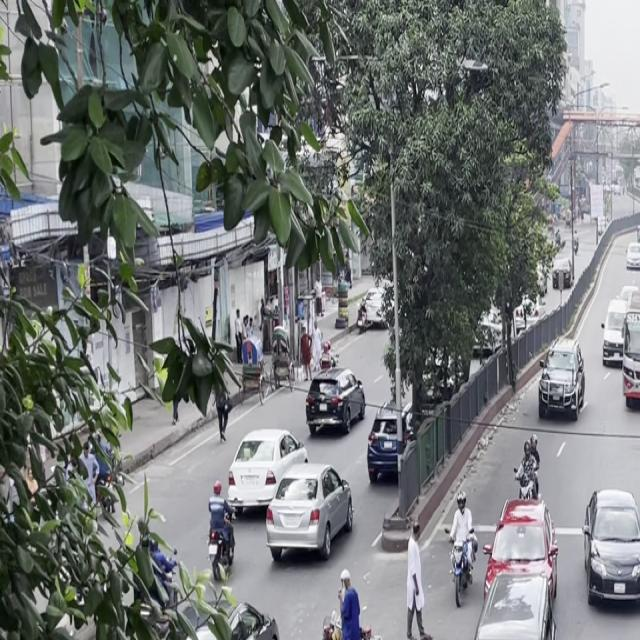bicycle: (306, 570, 396, 640)
bus: (619, 275, 640, 419)
car: (262, 456, 357, 570), (449, 554, 568, 640), (579, 479, 640, 619), (226, 420, 310, 520), (302, 365, 370, 441), (362, 402, 415, 485), (534, 338, 586, 422), (598, 307, 628, 373)
motorbike: (200, 487, 244, 585), (446, 492, 479, 607)
